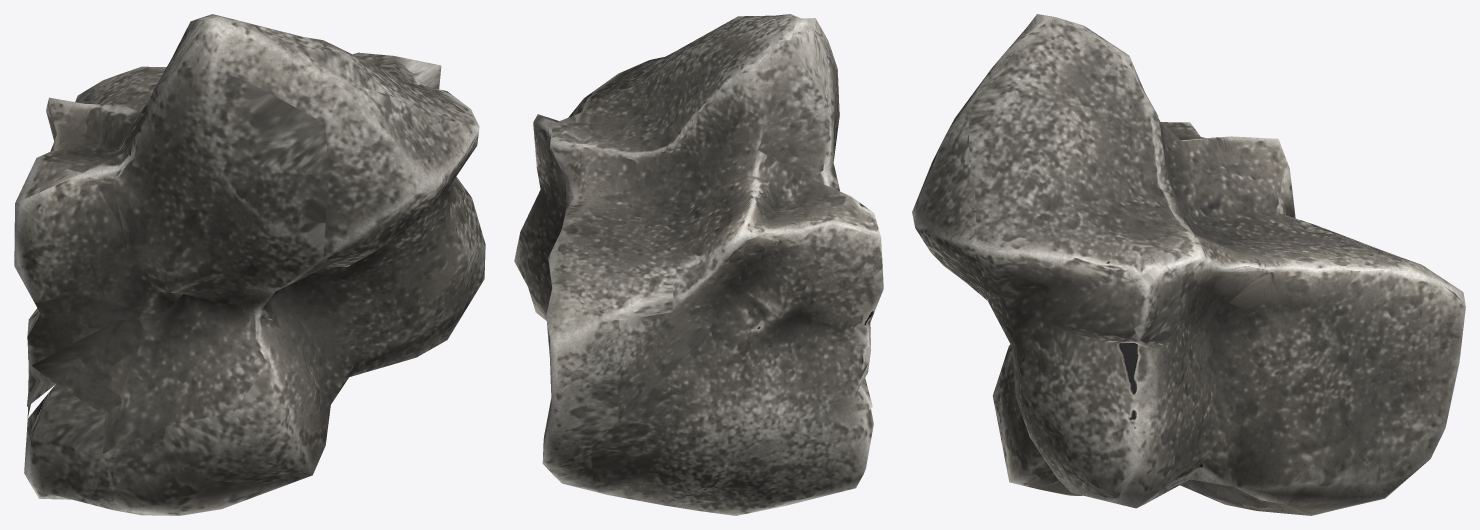
File: rockAB.glb
3 views of the same model, side by side, from view 1: azimuth 30°, elevation 25°; view 2: azimuth 150°, elevation 25°; view 3: azimuth 270°, elevation 25° (orthographic). The views are drawn at different scales.
Visible parts, largest first — view 1: rockAB; view 2: rockAB; view 3: rockAB.
Boxes of the visible parts, box(x1,y1,x2,y2) form: rockAB: box(14, 14, 485, 515); rockAB: box(514, 14, 883, 515); rockAB: box(912, 14, 1465, 515).
Bounding box in the file's own units: 0.1236 × 0.1369 × 0.1391.
Materials: 1 (1 with a texture image).
